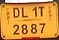character: (20, 6, 28, 18), (39, 22, 46, 34), (12, 7, 19, 18), (12, 24, 19, 35), (30, 23, 37, 34), (21, 24, 28, 34), (32, 6, 38, 17), (38, 6, 44, 16)
